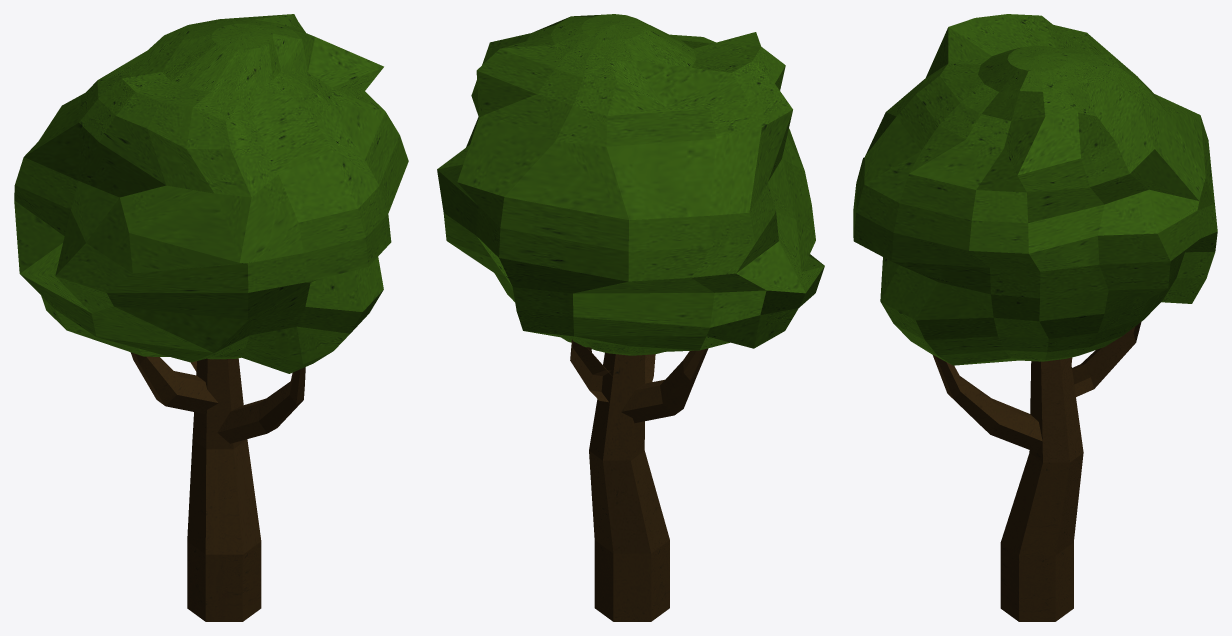
Rendered from tree.obj.
The picture shows the model from 3 angles, left to right: view 1: azimuth 30°, elevation 25°; view 2: azimuth 150°, elevation 25°; view 3: azimuth 270°, elevation 25°; orthographic projection. The views are drawn at different scales.
Parts seen in each view (by area): view 1: Cylinder; view 2: Cylinder; view 3: Cylinder.
Boxes of the visible parts, x1=… form: Cylinder: x1=14, y1=14, x2=408, y2=621; Cylinder: x1=437, y1=14, x2=824, y2=621; Cylinder: x1=853, y1=14, x2=1217, y2=621.
Bounding box in the file's own units: 6.53 × 10.35 × 6.09.
